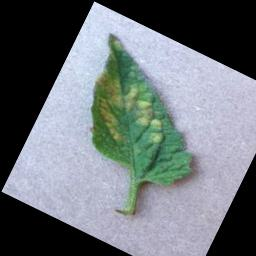Leaf_Mold: (75, 68, 180, 160)
